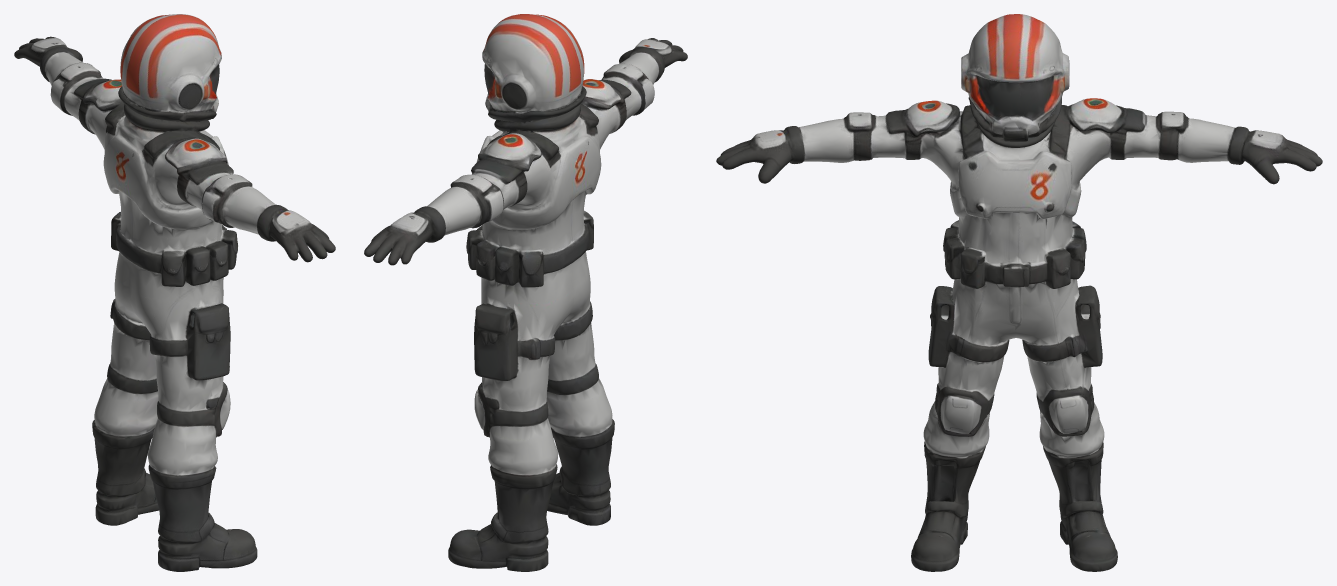
The model's file is n2_story_grunt.8e18238d.glb.
3 views of the same model, side by side, from view 1: azimuth 30°, elevation 25°; view 2: azimuth 150°, elevation 25°; view 3: azimuth 270°, elevation 25° (orthographic). The views are drawn at different scales.
Parts seen in each view (by area): view 1: tripo_node_b38ee773-8d88-47eb-a454-8906fbd470ac; view 2: tripo_node_b38ee773-8d88-47eb-a454-8906fbd470ac; view 3: tripo_node_b38ee773-8d88-47eb-a454-8906fbd470ac.
Boxes of the visible parts, x1,y1,x2,y2 form: tripo_node_b38ee773-8d88-47eb-a454-8906fbd470ac: (14, 14, 335, 571); tripo_node_b38ee773-8d88-47eb-a454-8906fbd470ac: (364, 14, 687, 571); tripo_node_b38ee773-8d88-47eb-a454-8906fbd470ac: (716, 14, 1322, 571).
Size of the model in its own units: 0.1951 by 0.9692 by 1.
Materials: 1 (1 with a texture image).
